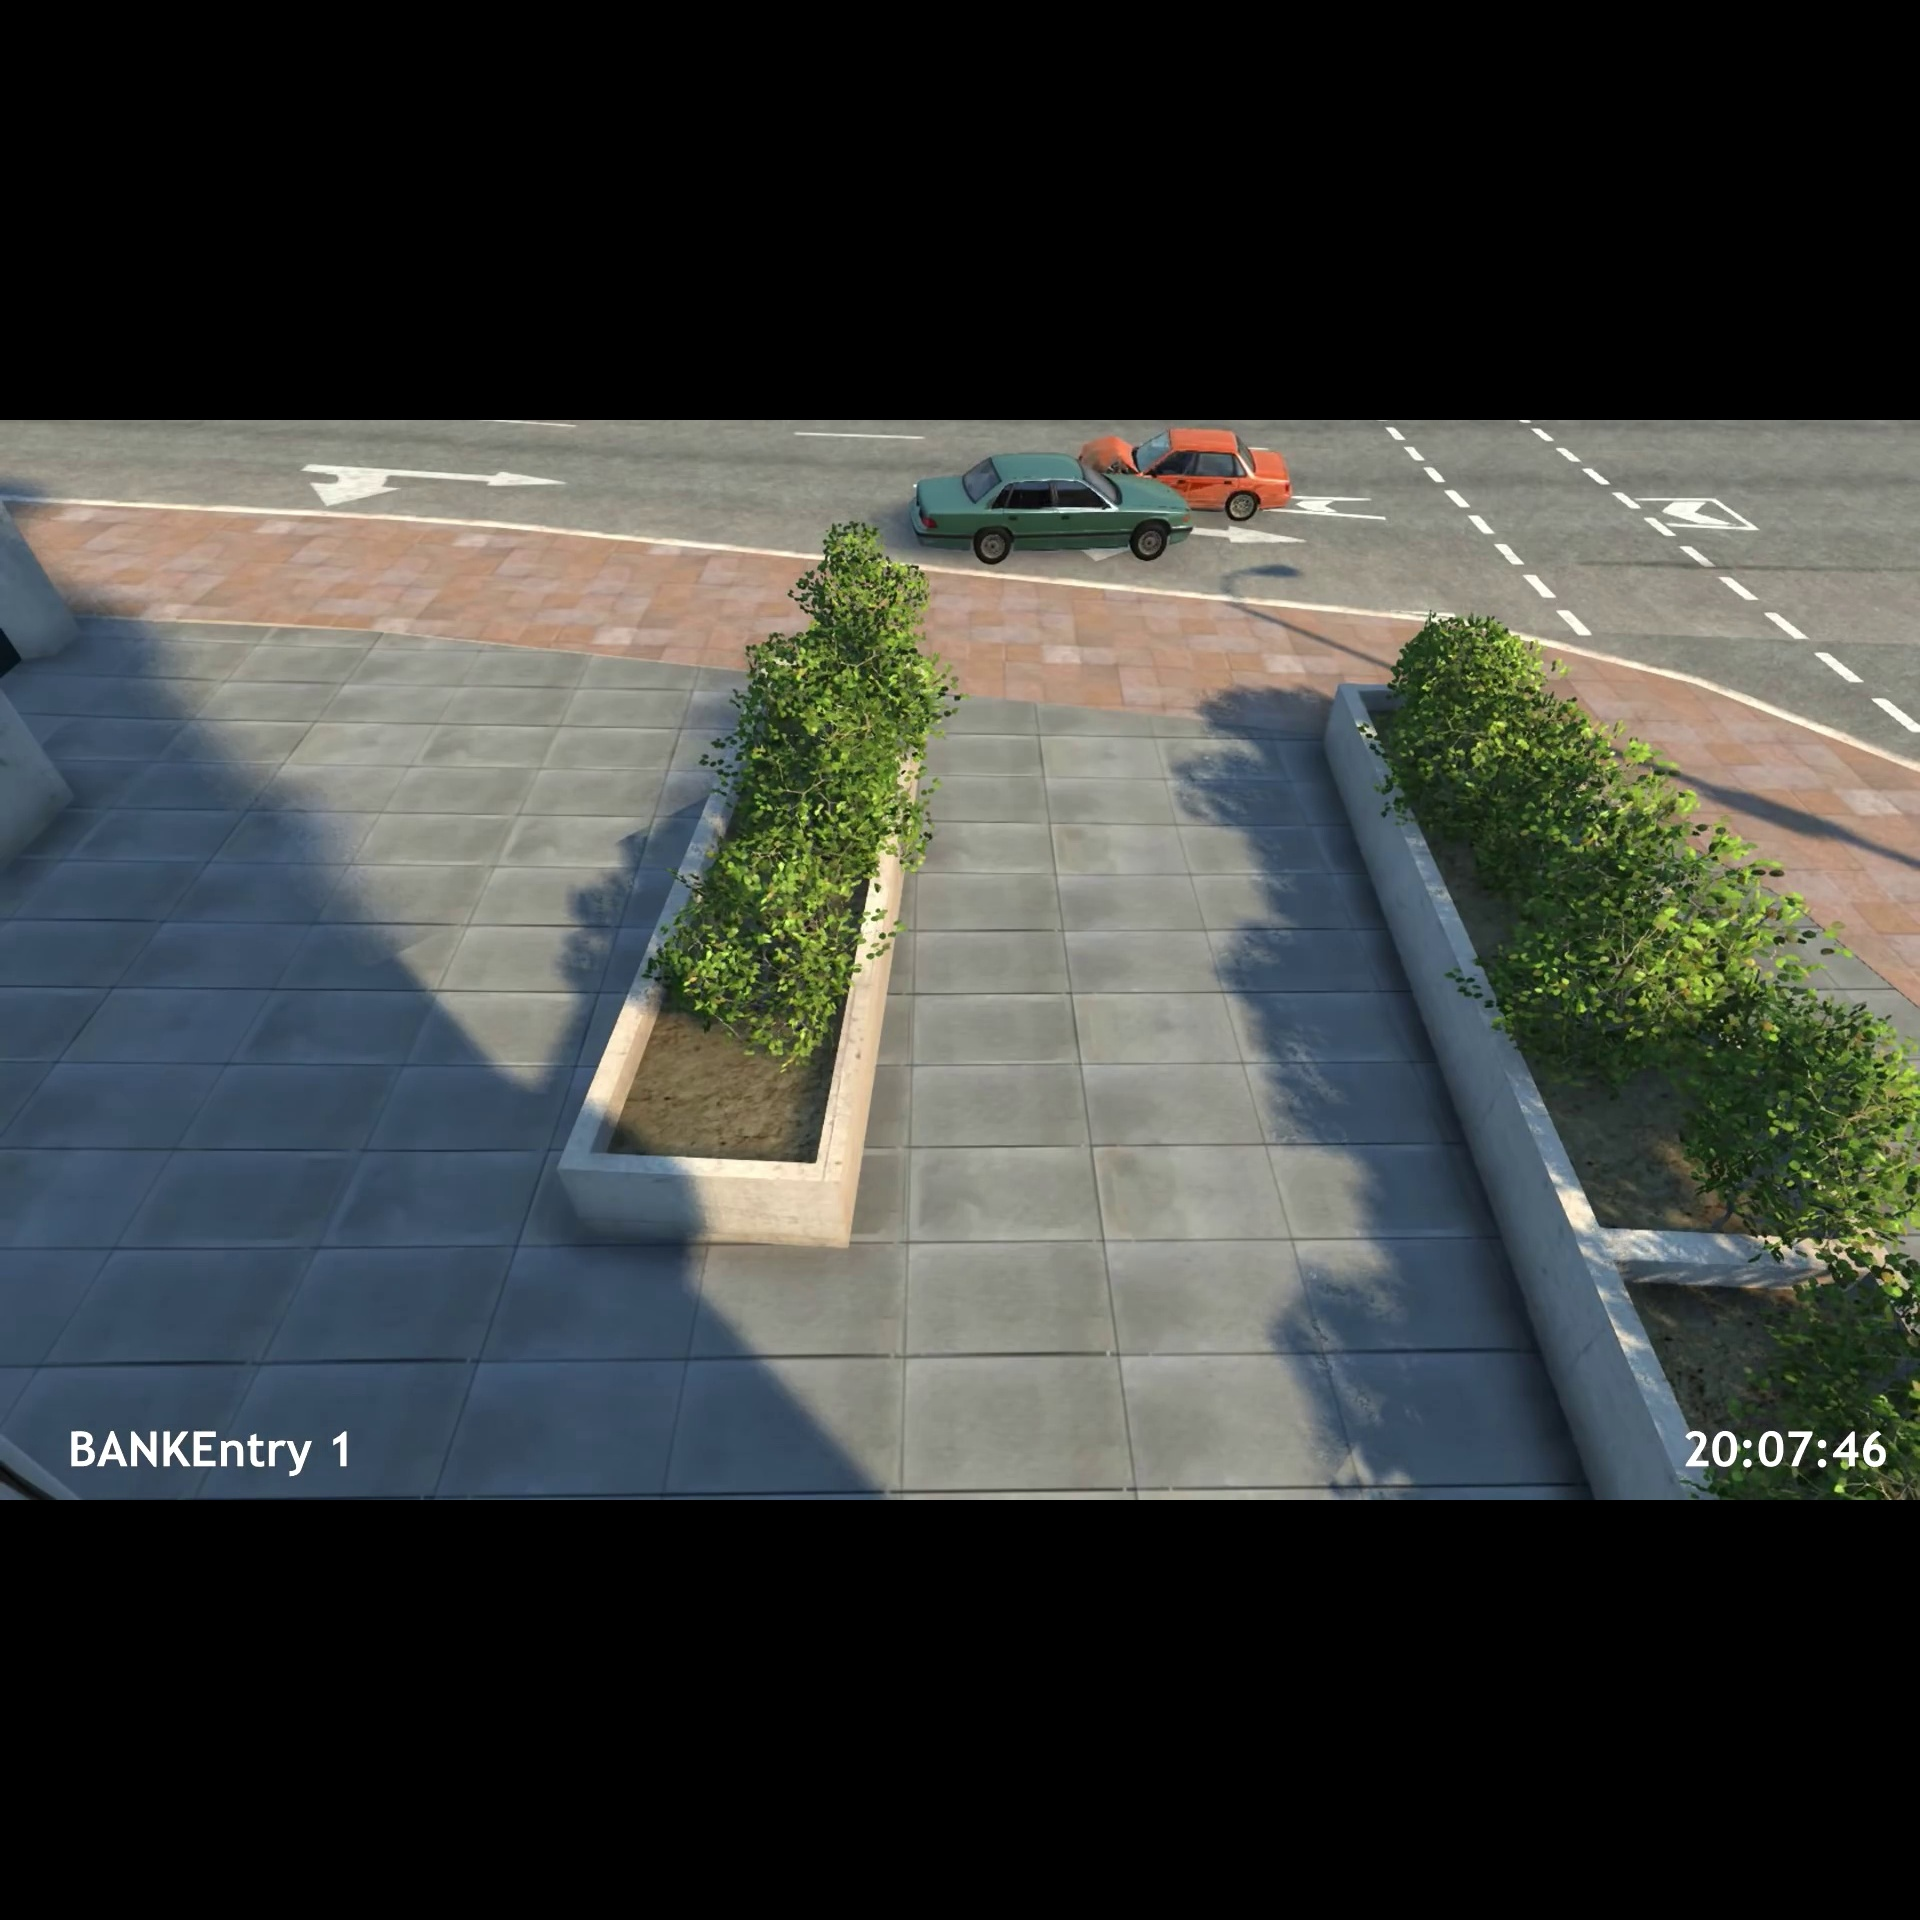vehicle: (898, 452, 1196, 564), (1087, 427, 1291, 503)
